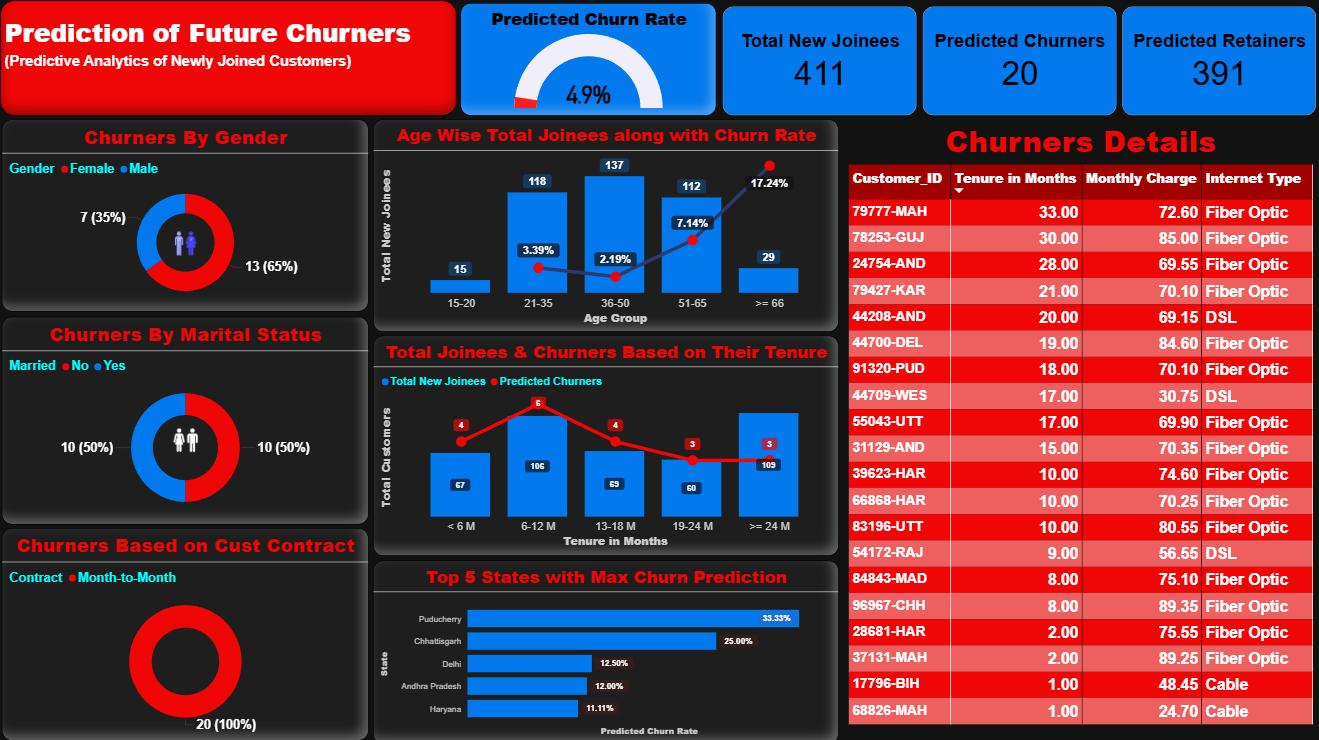

This screenshot's page, from the dashboard's own definition file:
{"tool":"powerbi","page":{"name":"Predict Churners","canvas":[1920,1080],"ordinal":2},"visuals":[{"type":"donutChart","title":"Churners By Gender","fields":{"Category":["New_Joinees_Prediction.Gender"],"Y":["_Measure_NewJoinee_Predictions.Predicted Churners"]},"box":[5.5,175.9,531.4,278.5],"z":0},{"type":"donutChart","title":"Churners By Marital Status","fields":{"Y":["_Measure_NewJoinee_Predictions.Predicted Churners"],"Category":["New_Joinees_Prediction.Married"]},"box":[5.5,461.8,531.4,300.5],"z":1000},{"type":"image","box":[238.2,613.9,66,53.1],"z":3000},{"type":"gauge","fields":{"Y":["_Measure_NewJoinee_Predictions.Predicted Churn Rate"]},"box":[668.8,7.3,370.1,163.1],"z":4000},{"type":"cardVisual","fields":{"Data":["_Measure_NewJoinee_Predictions.Total New Joinees","_Measure_NewJoinee_Predictions.Predicted Churners","_Measure_NewJoinee_Predictions.Predicted Retainers"]},"box":[1044.5,7.3,870.4,168.6],"z":5000},{"type":"lineStackedColumnComboChart","title":"Age Wise Total Joinees along with Churn Rate","fields":{"Category":["AgeGroup_Mapping.Age Group"],"Y":["_Measure_NewJoinee_Predictions.Total New Joinees"],"Y2":["_Measure_NewJoinee_Predictions.Predicted Churn Rate"]},"box":[542.4,175.9,674.3,307.8],"z":6000},{"type":"lineStackedColumnComboChart","title":"Total Joinees & Churners Based on Their Tenure","fields":{"Y":["_Measure_NewJoinee_Predictions.Total New Joinees"],"Category":["TenureGroup_Mapping.Tenure Group"],"Y2":["_Measure_NewJoinee_Predictions.Predicted Churners"]},"box":[542.4,489.3,674.3,318.8],"z":8000},{"type":"clusteredBarChart","title":"Top 5 States with Max Churn Prediction","fields":{"Category":["New_Joinees_Prediction.State"],"Y":["_Measure_NewJoinee_Predictions.Predicted Churn Rate"]},"box":[542.4,813.6,674.3,265.7],"z":9000},{"type":"pivotTable","title":"Churners Details","fields":{"Rows":["New_Joinees_Prediction.Customer_ID"],"Values":["Avg(New_Joinees_Prediction.Tenure_in_Months)","Avg(New_Joinees_Prediction.Monthly_Charge)","Min(New_Joinees_Prediction.Internet_Type)"]},"box":[1227.5,175,682.5,900],"z":11000},{"type":"image","box":[238.2,328,66,55],"z":12000},{"type":"textbox","title":"Prediction of Future Churners","box":[3.7,3.7,659.7,166.7],"z":13000},{"type":"donutChart","title":"Churners Based on Cust Contract","fields":{"Y":["_Measure_NewJoinee_Predictions.Predicted Churners"],"Category":["New_Joinees_Prediction.Contract"]},"box":[5.5,767.8,531.4,307.8],"z":15000}]}

Visuals, with their boxes in screenshot pixels (x1, y1, x2, y2), scaled from the page's 1920x1080 canvas onto the 1319x740 screenshot:
"Churners By Gender" donutChart: [4, 121, 369, 311]
"Churners By Marital Status" donutChart: [4, 316, 369, 522]
image: [164, 421, 209, 457]
gauge - _Measure_NewJoinee_Predictions.Predicted Churn Rate: [459, 5, 714, 117]
cardVisual - _Measure_NewJoinee_Predictions.Total New Joinees x _Measure_NewJoinee_Predictions.Predicted Churners: [718, 5, 1315, 121]
"Age Wise Total Joinees along with Churn Rate" lineStackedColumnComboChart: [373, 121, 836, 331]
"Total Joinees & Churners Based on Their Tenure" lineStackedColumnComboChart: [373, 335, 836, 554]
"Top 5 States with Max Churn Prediction" clusteredBarChart: [373, 557, 836, 739]
"Churners Details" pivotTable: [843, 120, 1312, 737]
image: [164, 225, 209, 262]
"Prediction of Future Churners" textbox: [3, 3, 456, 117]
"Churners Based on Cust Contract" donutChart: [4, 526, 369, 737]
